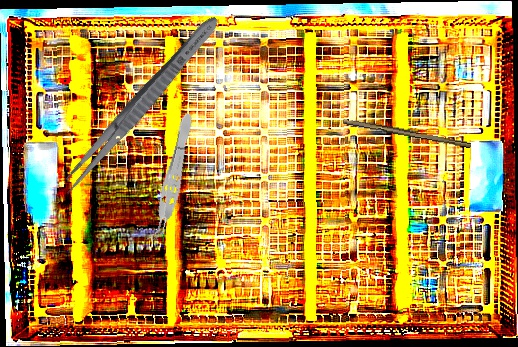Dressing Forceps: (56, 10, 225, 199)
Scalpel Handle: (342, 116, 472, 149)
Tissue Forceps: (145, 110, 199, 247)
